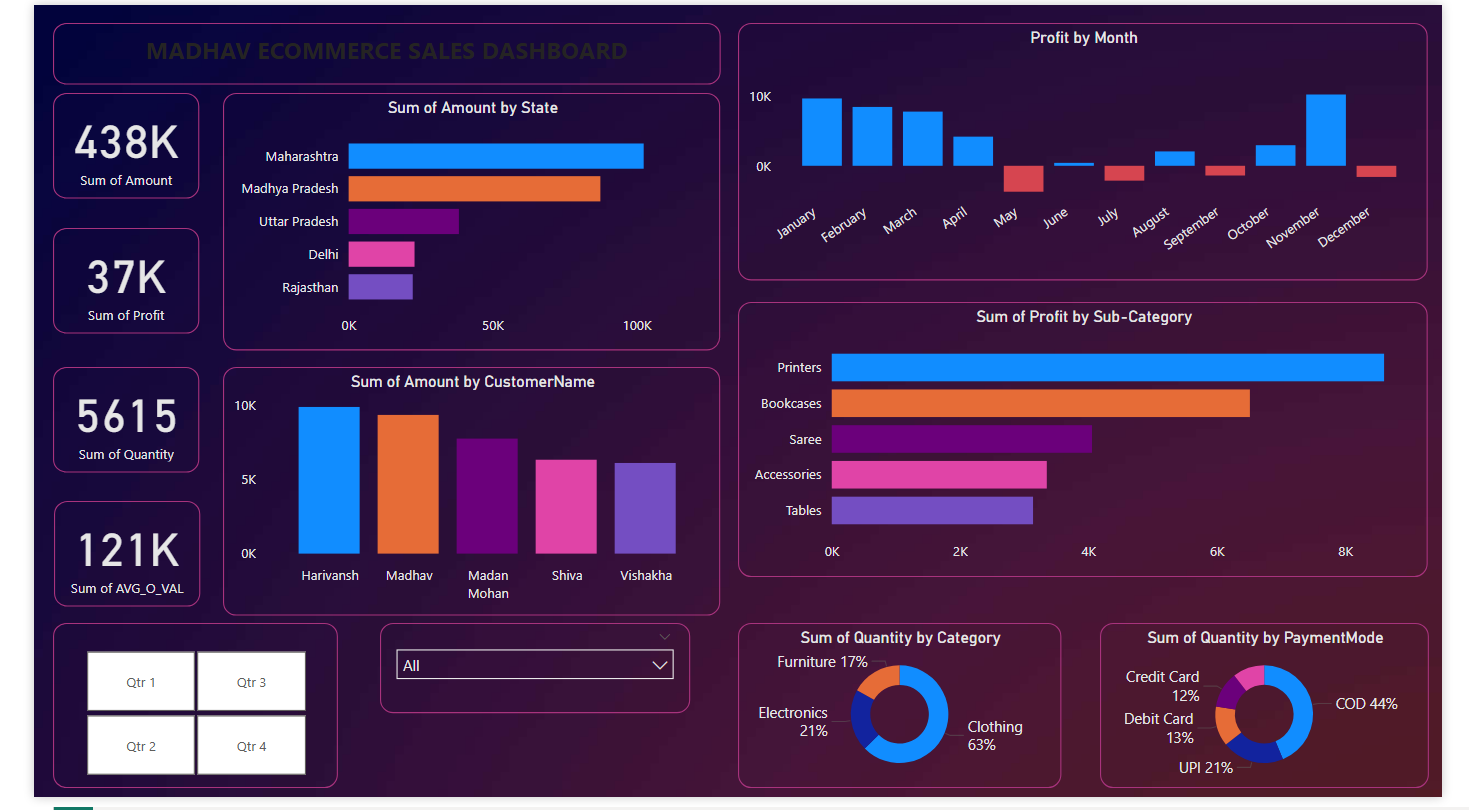

This screenshot's page, from the dashboard's own definition file:
{"tool":"powerbi","page":{"name":"Page 1","canvas":[1280,720],"ordinal":0},"visuals":[{"type":"textbox","box":[17.5,16.5,606.9,56.4],"z":0},{"type":"columnChart","title":"Profit by Month","fields":{"Category":["Orders.Order Date.Variation.Date Hierarchy.Month"],"Y":["Details.Profit"]},"box":[640,16.5,627.4,234.4],"z":1000},{"type":"barChart","fields":{"Category":["Details.Sub-Category"],"Y":["Details.Profit"]},"box":[640,270.4,627.4,250],"z":2000},{"type":"donutChart","fields":{"Category":["Details.Category"],"Y":["Details.Quantity"]},"box":[640,562.2,293.7,149.8],"z":3000},{"type":"donutChart","fields":{"Y":["Details.Quantity"],"Category":["Details.PaymentMode"]},"box":[968.8,562.2,298.6,149.8],"z":4000},{"type":"card","fields":{"Values":["Details.Amount"]},"box":[17.5,79.8,133.3,96.3],"z":5000},{"type":"card","fields":{"Values":["Details.Quantity"]},"box":[17.5,328.8,133.3,96.3],"z":6000},{"type":"card","fields":{"Values":["Details.AVG_O_VAL"]},"box":[17.7,451.3,133,95.8],"z":7000},{"type":"card","fields":{"Values":["Details.Profit"]},"box":[17.5,202.3,133.3,96.3],"z":8000},{"type":"barChart","fields":{"Category":["Orders.State"],"Y":["Details.Amount"]},"box":[172.2,79.8,452.3,234.4],"z":9000},{"type":"columnChart","fields":{"Category":["Orders.CustomerName"],"Y":["Details.Amount"]},"box":[172.2,328.8,452.3,225.7],"z":10000},{"type":"slicer","fields":{"Values":["Orders.Order Date.Variation.Date Hierarchy.Quarter"]},"box":[17.5,562.2,258.7,149.8],"z":11000},{"type":"slicer","fields":{"Values":["Orders.State"]},"box":[314.8,562.2,282,81.6],"z":12000}]}

Visuals, with their boxes in screenshot pixels (x1, y1, x2, y2), scaled from the page's 1280x720 canvas onto the 1469x810 screenshot:
textbox: bbox=[20, 19, 717, 82]
"Profit by Month" columnChart: bbox=[734, 19, 1455, 282]
barChart - Details.Sub-Category x Details.Profit: bbox=[734, 304, 1455, 585]
donutChart - Details.Category x Details.Quantity: bbox=[734, 632, 1072, 801]
donutChart - Details.Quantity x Details.PaymentMode: bbox=[1112, 632, 1455, 801]
card - Details.Amount: bbox=[20, 90, 173, 198]
card - Details.Quantity: bbox=[20, 370, 173, 478]
card - Details.AVG_O_VAL: bbox=[20, 508, 173, 615]
card - Details.Profit: bbox=[20, 228, 173, 336]
barChart - Orders.State x Details.Amount: bbox=[198, 90, 717, 353]
columnChart - Orders.CustomerName x Details.Amount: bbox=[198, 370, 717, 624]
slicer - Orders.Order Date.Variation.Date Hierarchy.Quarter: bbox=[20, 632, 317, 801]
slicer - Orders.State: bbox=[361, 632, 685, 724]
